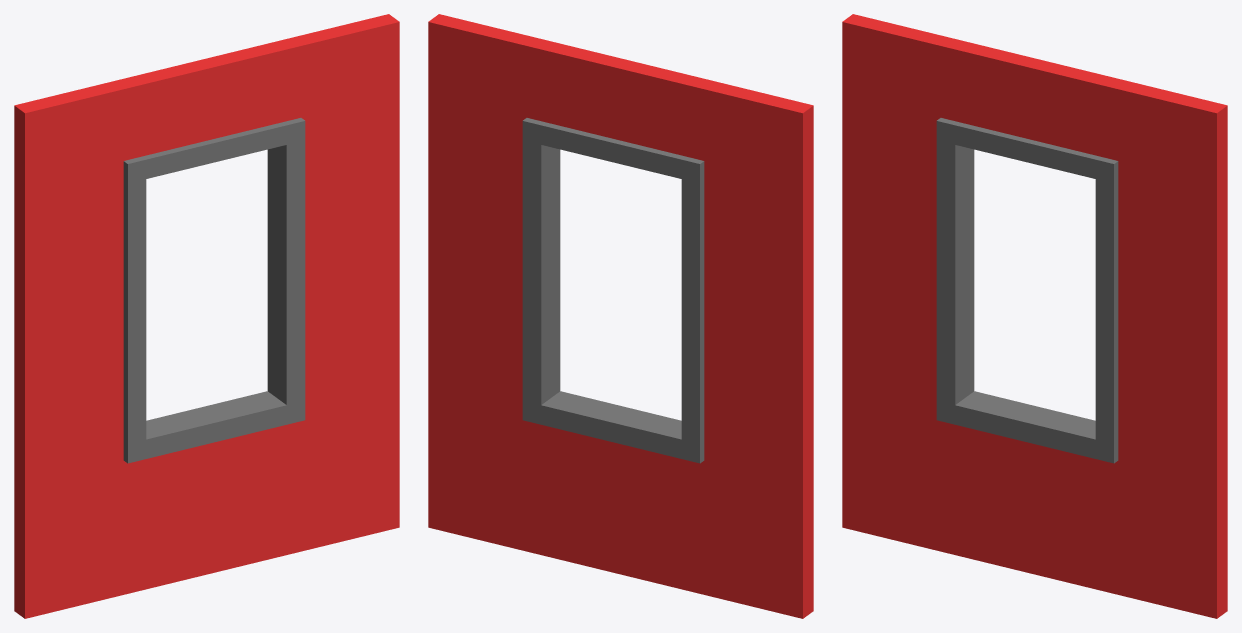
Rendered from WindowWall_Updated.fbx.
The picture shows the model from 3 angles, left to right: view 1: azimuth 30°, elevation 25°; view 2: azimuth 150°, elevation 25°; view 3: azimuth 330°, elevation 25°; orthographic projection.
Parts seen in each view (by area): view 1: wallWindowSlide; view 2: wallWindowSlide; view 3: wallWindowSlide.
Part boxes in pixels (x1,y1,x2,y2): wallWindowSlide: (14, 14, 399, 618); wallWindowSlide: (428, 14, 813, 618); wallWindowSlide: (842, 14, 1227, 618).
Size of the model in its own units: 10 by 12.9 by 0.891.
